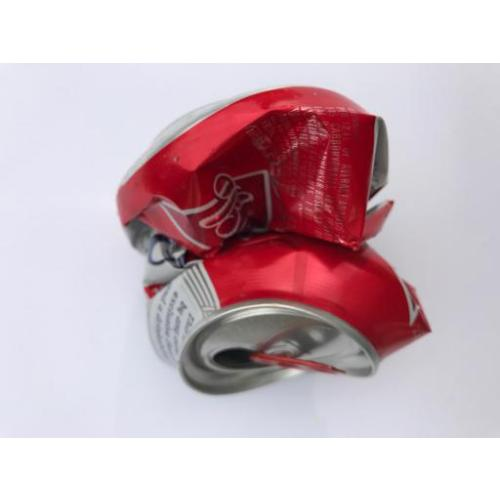metal: (118, 84, 433, 397)
